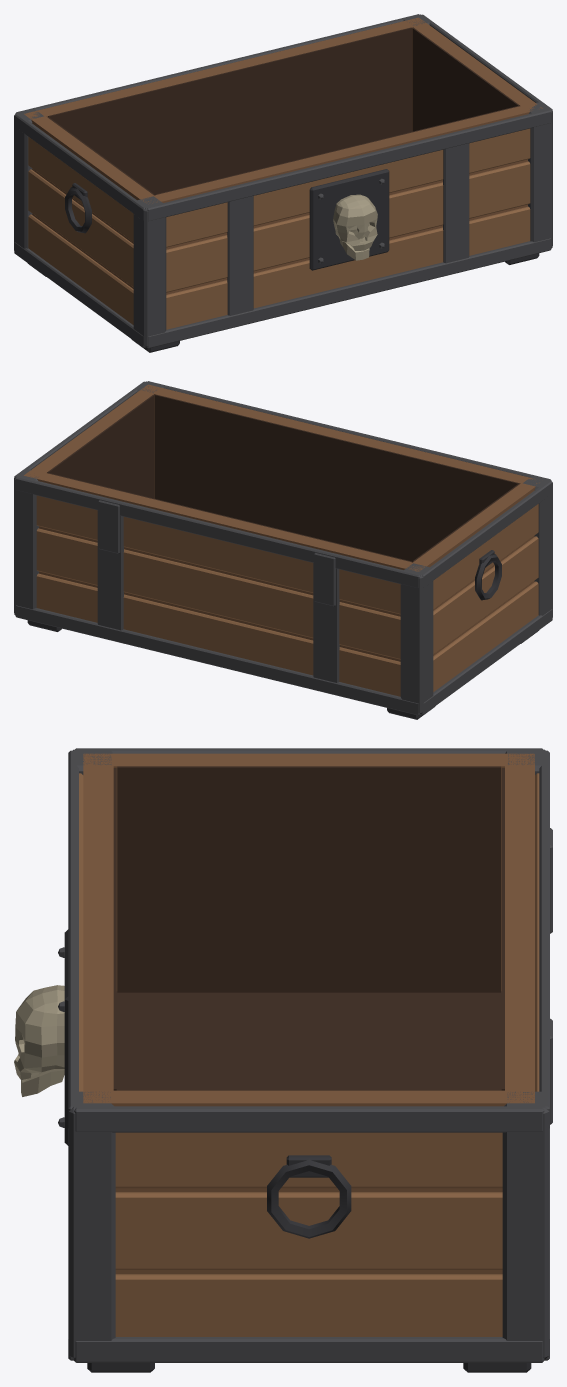
File: chest_open_base.glb
3 renders of one model, top to bottom at view 1: azimuth 30°, elevation 25°; view 2: azimuth 150°, elevation 25°; view 3: azimuth 270°, elevation 25°, orthographic. The views are drawn at different scales.
Parts seen in each view (by area): view 1: chest_open_base; view 2: chest_open_base; view 3: chest_open_base.
Part boxes in pixels (x1=…): chest_open_base: x1=14, y1=14, x2=552, y2=352; chest_open_base: x1=14, y1=381, x2=552, y2=719; chest_open_base: x1=14, y1=748, x2=552, y2=1372.
Size of the model in its own units: 1.16 by 0.4 by 0.7163.
